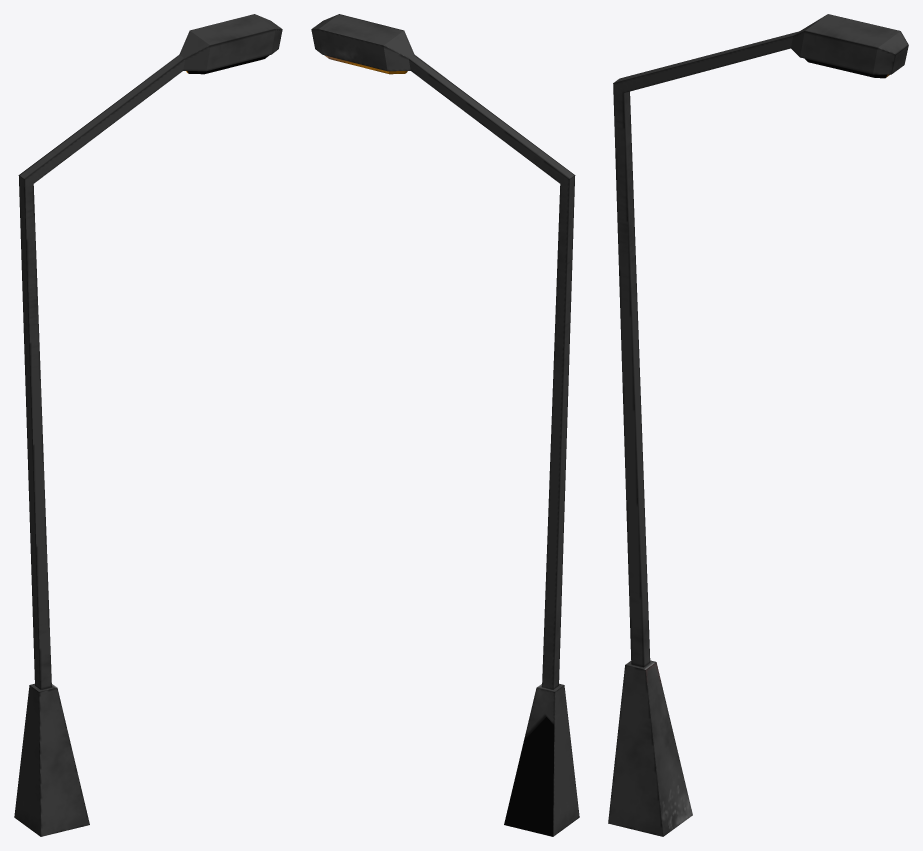
File: stolb.FBX
The picture shows the model from 3 angles, left to right: view 1: azimuth 30°, elevation 25°; view 2: azimuth 150°, elevation 25°; view 3: azimuth 330°, elevation 25°; orthographic projection. The views are drawn at different scales.
Visible parts, largest first — view 1: Object013, Box131, Object012; view 2: Object013, Box131, Object012; view 3: Object013, Box131, Object012.
Part boxes in pixels (x1=…): Object013: x1=18, y1=175, x2=51, y2=689; Box131: x1=14, y1=683, x2=89, y2=836; Object012: x1=19, y1=14, x2=282, y2=183; Object013: x1=542, y1=175, x2=575, y2=689; Box131: x1=504, y1=683, x2=579, y2=836; Object012: x1=311, y1=14, x2=574, y2=183; Object013: x1=613, y1=83, x2=650, y2=667; Box131: x1=608, y1=660, x2=692, y2=836; Object012: x1=613, y1=14, x2=908, y2=93.
Bounding box in the file's own units: 54.06 × 151 × 9.74.
